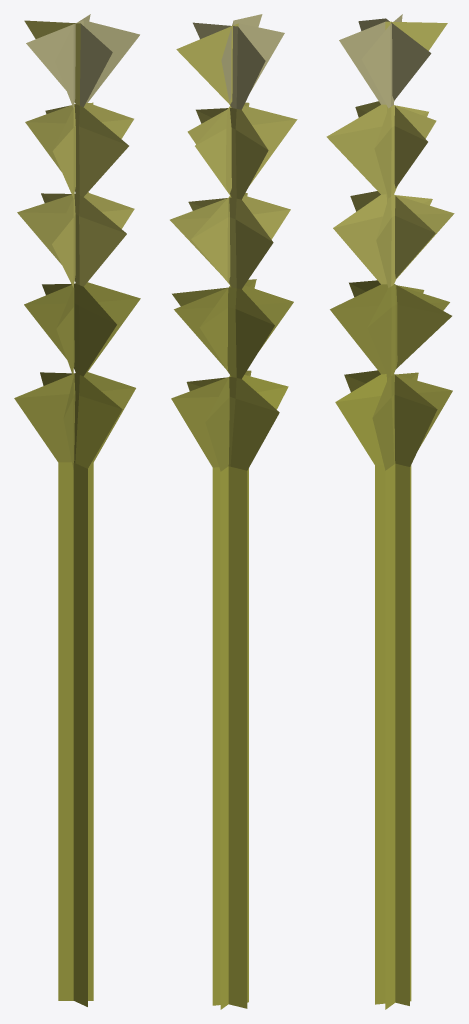
Rendered from Corn_04.glb.
The picture shows the model from 3 angles, left to right: view 1: azimuth 90°, elevation 25°; view 2: azimuth 150°, elevation 25°; view 3: azimuth 330°, elevation 25°; orthographic projection.
Visible parts, largest first — view 1: Corn 4; view 2: Corn 4; view 3: Corn 4.
Boxes of the visible parts, x1=… form: Corn 4: x1=14, y1=14, x2=140, y2=1006; Corn 4: x1=170, y1=14, x2=297, y2=1009; Corn 4: x1=326, y1=14, x2=454, y2=1009.
Size of the model in its own units: 0.244 by 2.04 by 0.2392.
